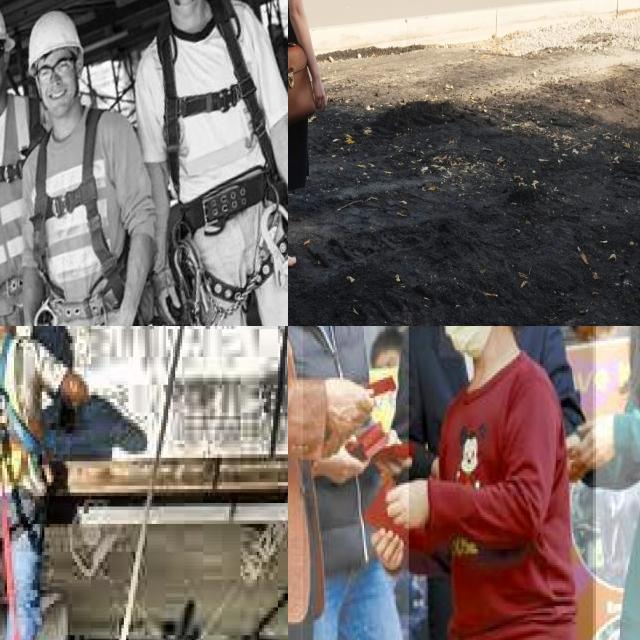Barefoots: (288, 253, 296, 276)
Harness: (157, 0, 288, 200), (31, 109, 125, 302), (0, 334, 46, 486)
face_mask: (439, 326, 495, 357)
hand_noglove: (322, 367, 376, 438), (383, 475, 428, 532), (367, 522, 409, 578)
person: (408, 326, 594, 640), (288, 326, 388, 640), (595, 326, 640, 640)
